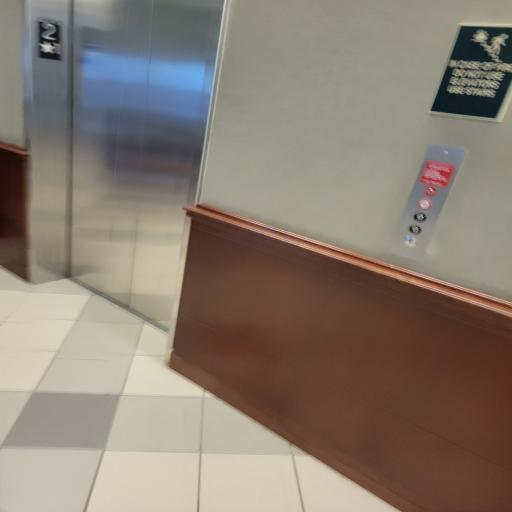elevator buttons: (397, 132, 460, 260)
elevator doors: (24, 0, 208, 352)
